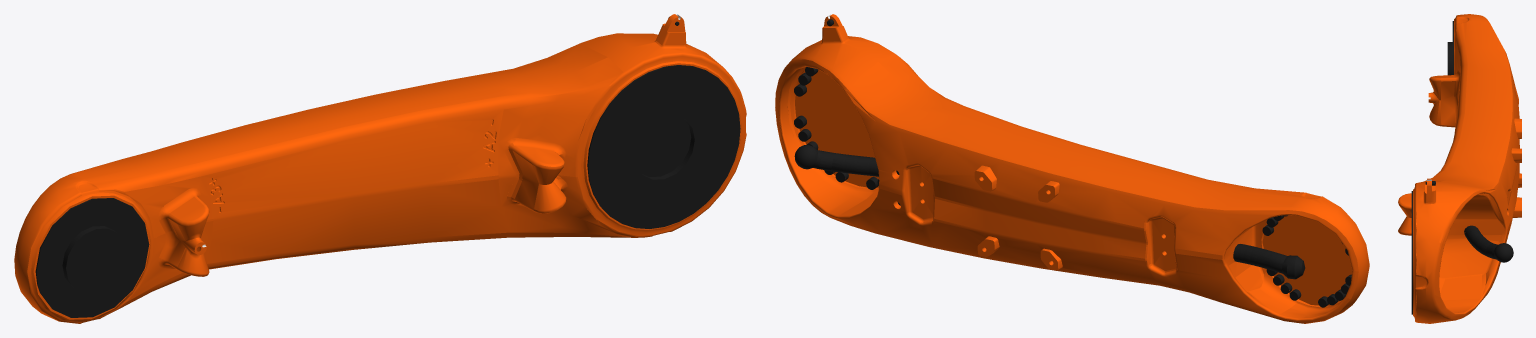
File: A2_cal2.glb
The picture shows the model from 3 angles, left to right: view 1: azimuth 30°, elevation 25°; view 2: azimuth 150°, elevation 25°; view 3: azimuth 270°, elevation 25°; orthographic projection. The views are drawn at different scales.
Parts seen in each view (by area): view 1: A2.001; view 2: A2.001; view 3: A2.001.
Boxes of the visible parts, bbox=[...] form: A2.001: bbox=[14, 14, 746, 323]; A2.001: bbox=[775, 14, 1369, 323]; A2.001: bbox=[1398, 14, 1521, 323].
Size of the model in its own units: 1.14 by 0.3262 by 0.2505.
